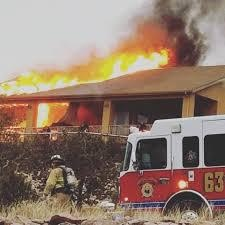fire: (34, 102, 50, 127)
